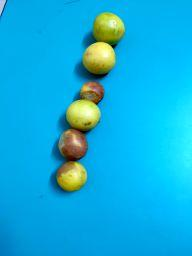lemon: (83, 41, 116, 76), (66, 100, 101, 131), (92, 12, 125, 44), (56, 160, 87, 192), (58, 129, 89, 158), (79, 81, 106, 103)
